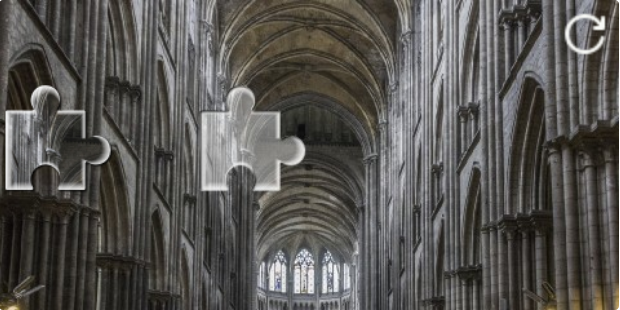target: (202, 87, 305, 190)
